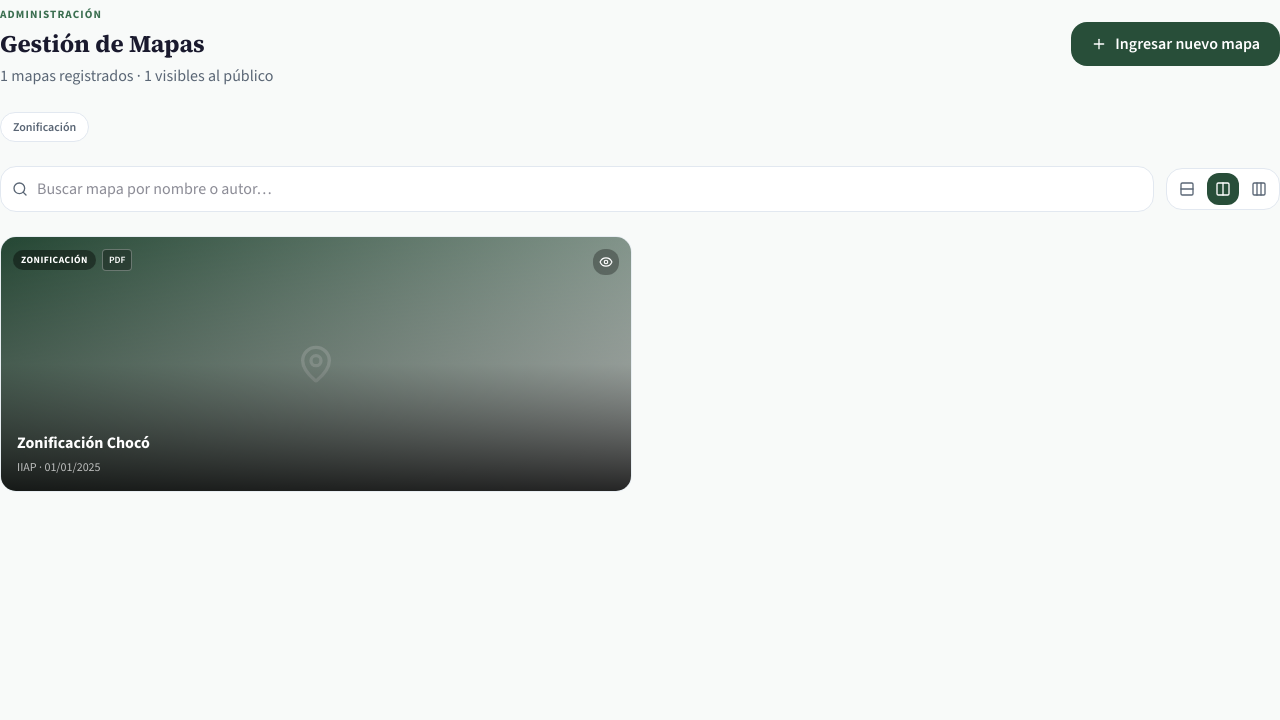
it: GestionMapas — edición y eliminación › editar precarga el formulario con los datos del mapa
Click the button with aria-label "Zonificación Chocó, Zonificación. Clic para ver detalles": (316, 364) x1=0 y1=236 x2=632 y2=492
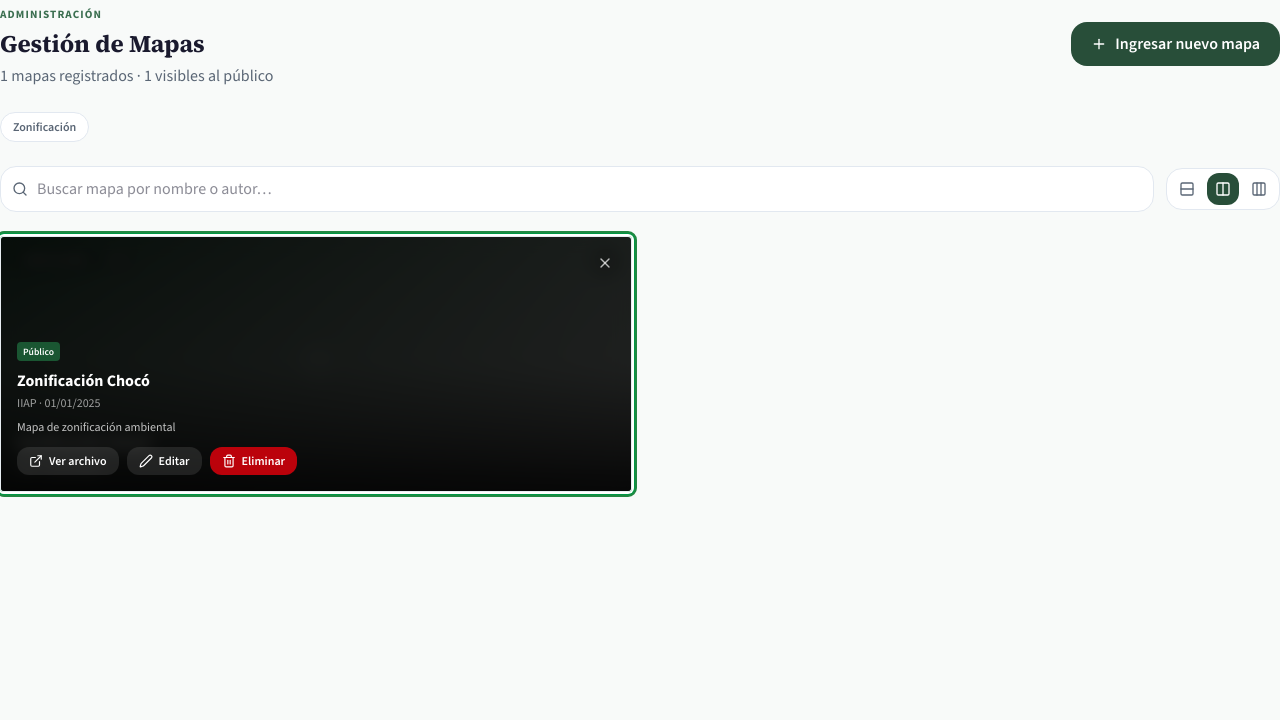
Click the button "Editar": (164, 461) x1=127 y1=447 x2=202 y2=475
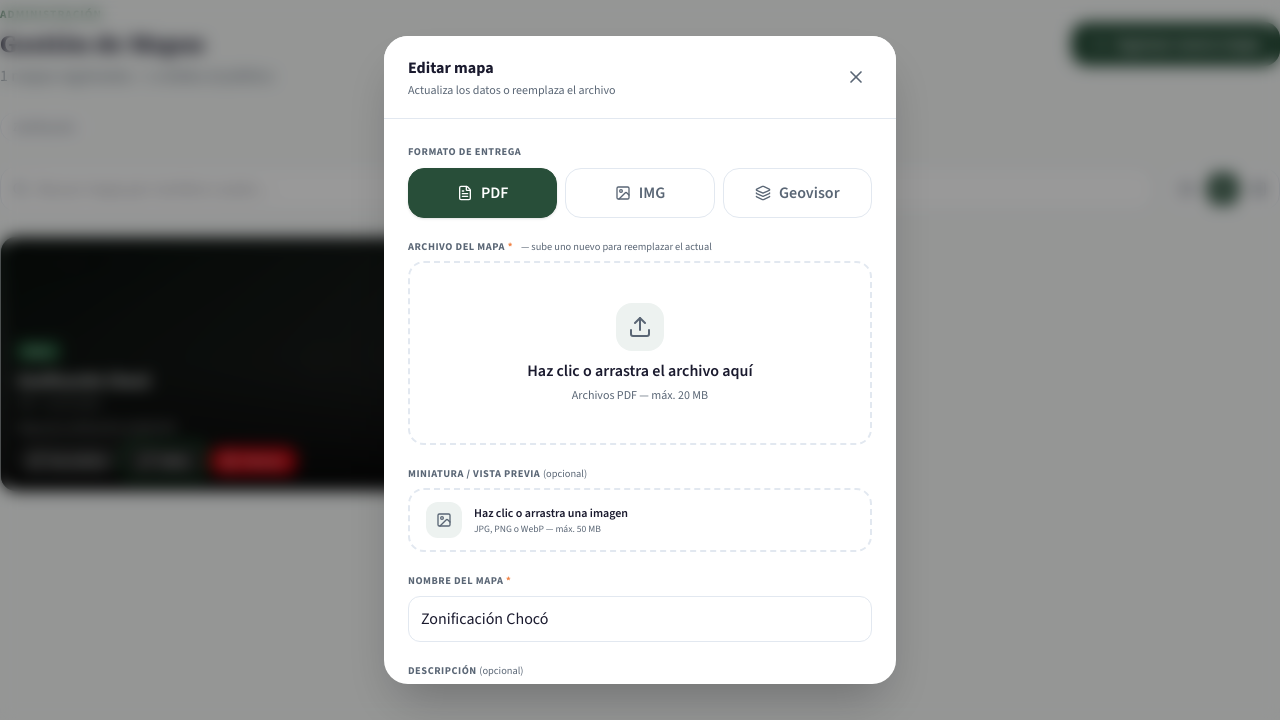
Result: the heading "Editar mapa" is shown at x1=408 y1=57 x2=494 y2=78
Result: the field labelled "Nombre del mapa *" holds "Zonificación Chocó" at x1=408 y1=596 x2=872 y2=642
